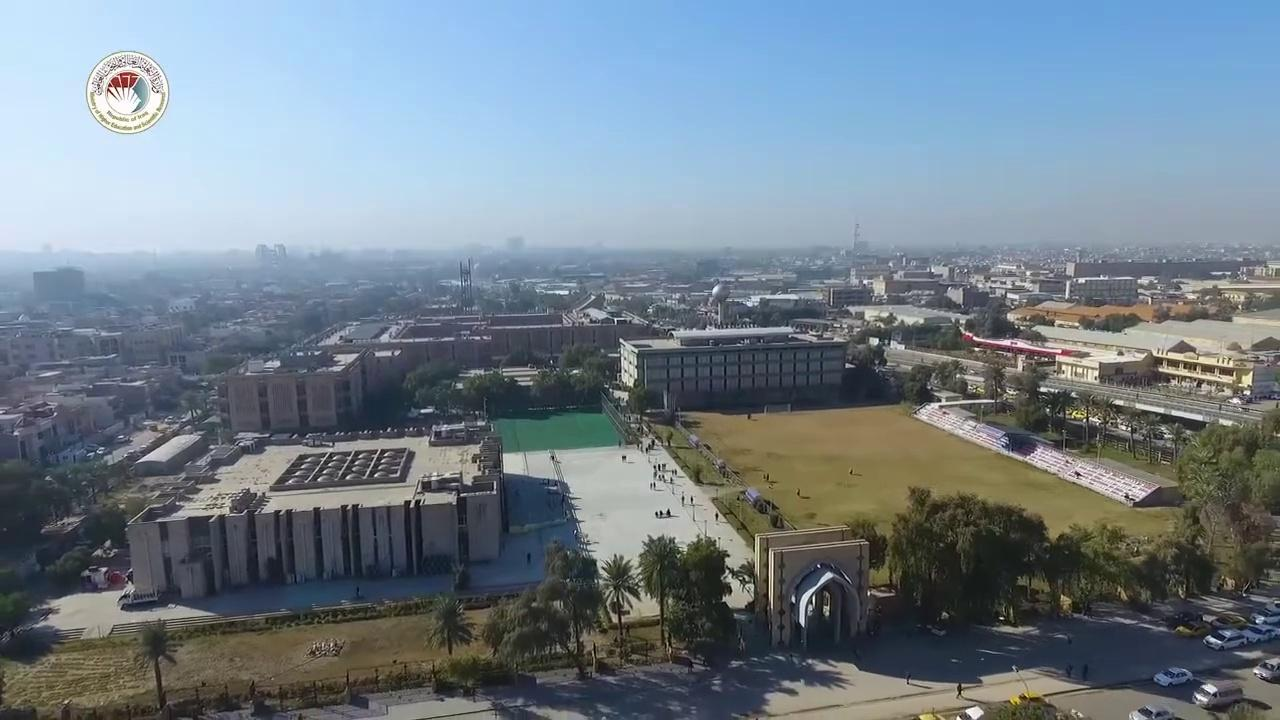car: (1191, 681, 1245, 709), (1202, 626, 1248, 650), (1152, 666, 1193, 687), (1129, 704, 1174, 719), (1252, 657, 1279, 682), (1174, 620, 1211, 636), (1009, 692, 1048, 706)
fountain: (501, 471, 573, 533), (667, 323, 796, 346)
person: (955, 681, 963, 698), (1065, 662, 1073, 677), (1081, 663, 1088, 680), (905, 671, 911, 685)
tree: (423, 528, 754, 684), (884, 484, 1046, 628), (1173, 417, 1279, 591), (667, 534, 752, 655), (534, 543, 606, 678), (1043, 520, 1135, 616), (885, 484, 949, 621), (482, 586, 570, 674), (636, 532, 683, 651), (1158, 511, 1211, 597), (131, 619, 180, 710), (598, 552, 641, 647), (422, 592, 475, 656), (844, 516, 888, 590), (1006, 364, 1045, 429), (481, 599, 516, 658), (446, 653, 483, 695), (730, 557, 757, 611), (625, 381, 646, 415), (448, 560, 466, 593)
